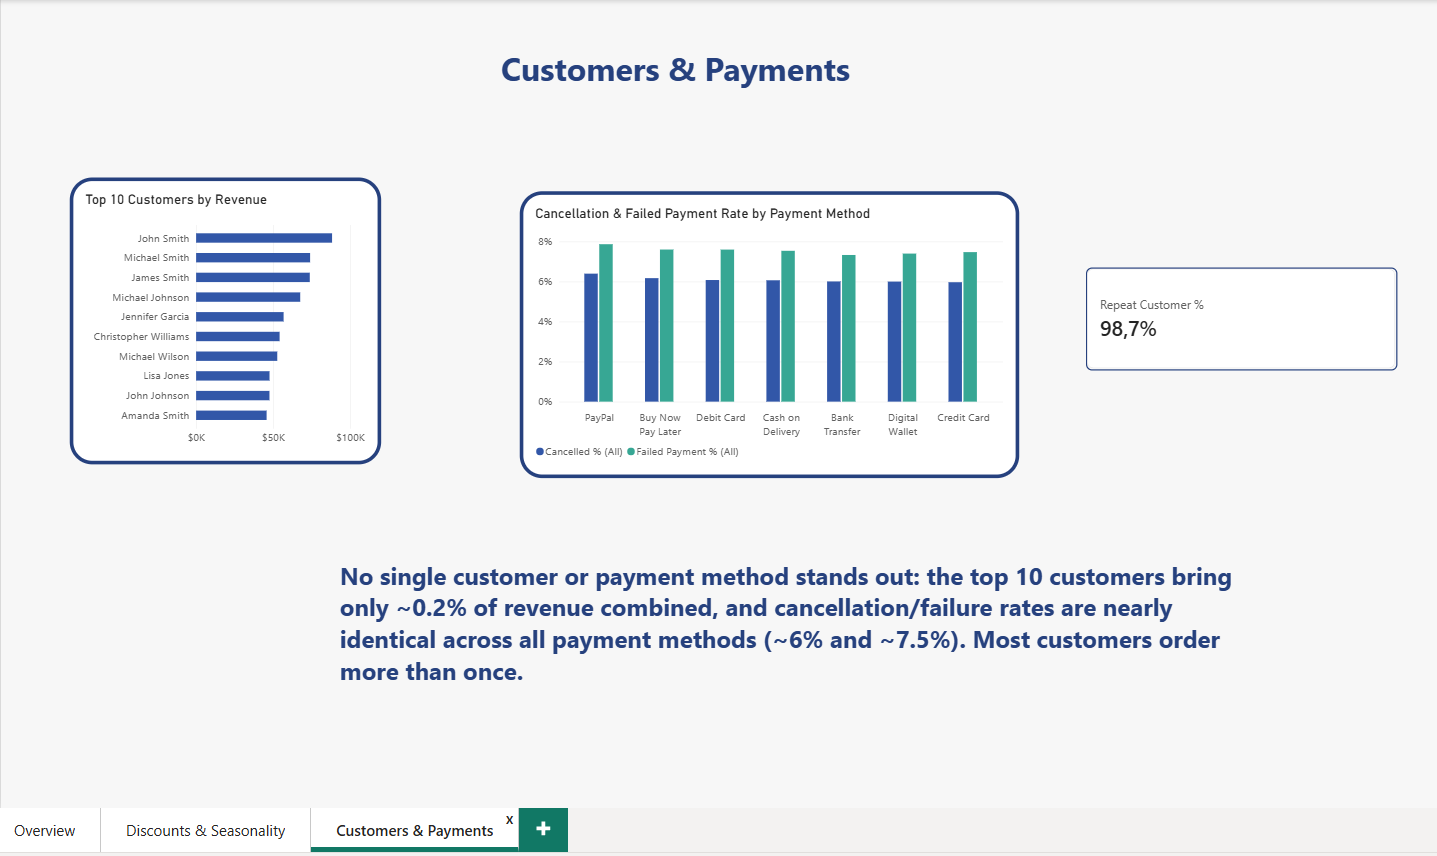

This screenshot's page, from the dashboard's own definition file:
{"tool":"powerbi","page":{"name":"Customers & Payments","canvas":[1920,1080],"ordinal":2},"visuals":[{"type":"textbox","box":[599,61.7,603.1,98.8],"z":0},{"type":"barChart","title":"Top 10 Customers by Revenue","fields":{"Category":["public dim_customers.customer_name"],"Y":["public fact_sales.Revenue"]},"box":[92.6,236.7,415.8,382.8],"z":1000},{"type":"clusteredColumnChart","title":"Cancellation & Failed Payment Rate by Payment Method","fields":{"Category":["public fact_sales.payment_method"],"Y":["public fact_sales.Cancelled % (All)","public dim_customers.Failed Payment % (All)"]},"box":[693.7,255.2,666.9,382.8],"z":2000},{"type":"cardVisual","fields":{"Data":["public dim_customers.Repeat Customer %"]},"box":[1449.1,358.1,415.8,137.9],"z":3000},{"type":"textbox","box":[452.8,747.2,1204.1,205.8],"z":4000}]}

Visuals, with their boxes on the page's 1920x1080 design canvas (x1, y1, x2, y2). These are canvas units, not pixel positions in the 1437x856 screenshot, which may show the page scaled, cropped or inside an application window:
textbox: bbox=[599, 62, 1202, 160]
"Top 10 Customers by Revenue" barChart: bbox=[93, 237, 508, 620]
"Cancellation & Failed Payment Rate by Payment Method" clusteredColumnChart: bbox=[694, 255, 1361, 638]
cardVisual - public dim_customers.Repeat Customer %: bbox=[1449, 358, 1865, 496]
textbox: bbox=[453, 747, 1657, 953]
